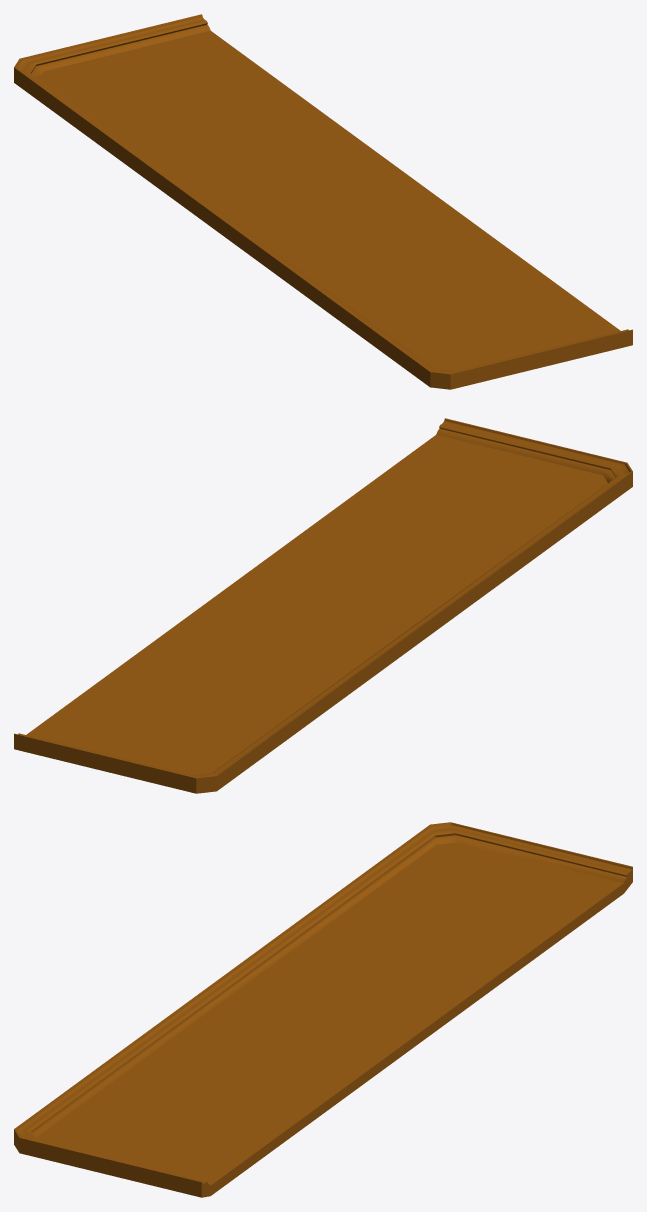
Rendered from marco 1.FBX.
The picture shows the model from 3 angles, top to bottom: view 1: azimuth 30°, elevation 25°; view 2: azimuth 150°, elevation 25°; view 3: azimuth 330°, elevation 25°; orthographic projection.
Visible parts, largest first — view 1: Box001; view 2: Box001; view 3: Box001.
Part boxes in pixels (left/top/right/bottom): Box001: left=14, top=14, right=632, bottom=389; Box001: left=14, top=418, right=632, bottom=793; Box001: left=14, top=822, right=632, bottom=1197.
Bounding box in the file's own units: 268 × 26.89 × 1027.
